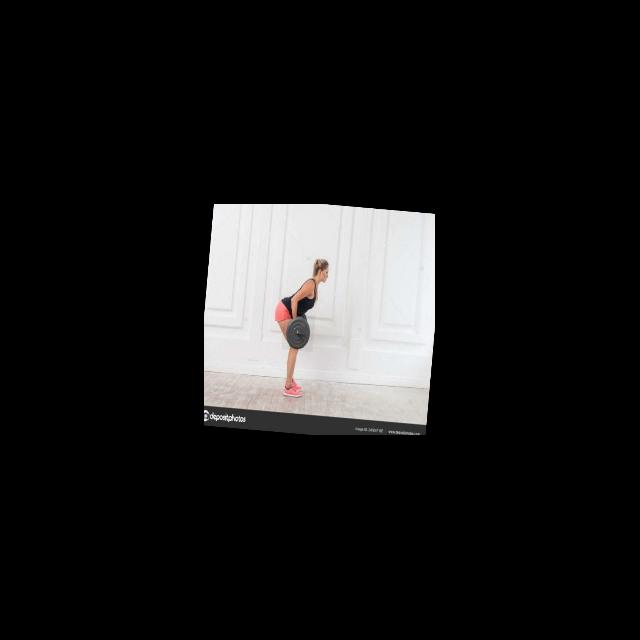barbell: (281, 313, 315, 352)
